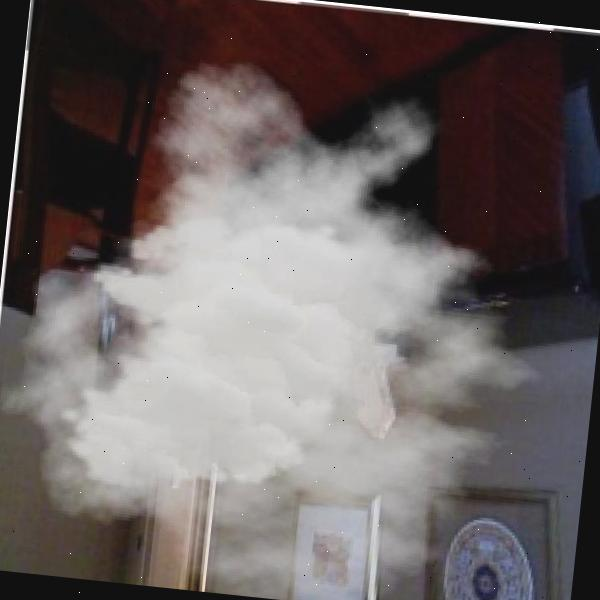smoke: (0, 37, 595, 600)
